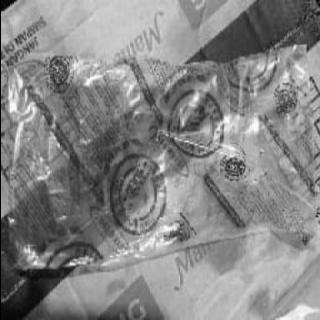objects: (2, 42, 320, 283)
